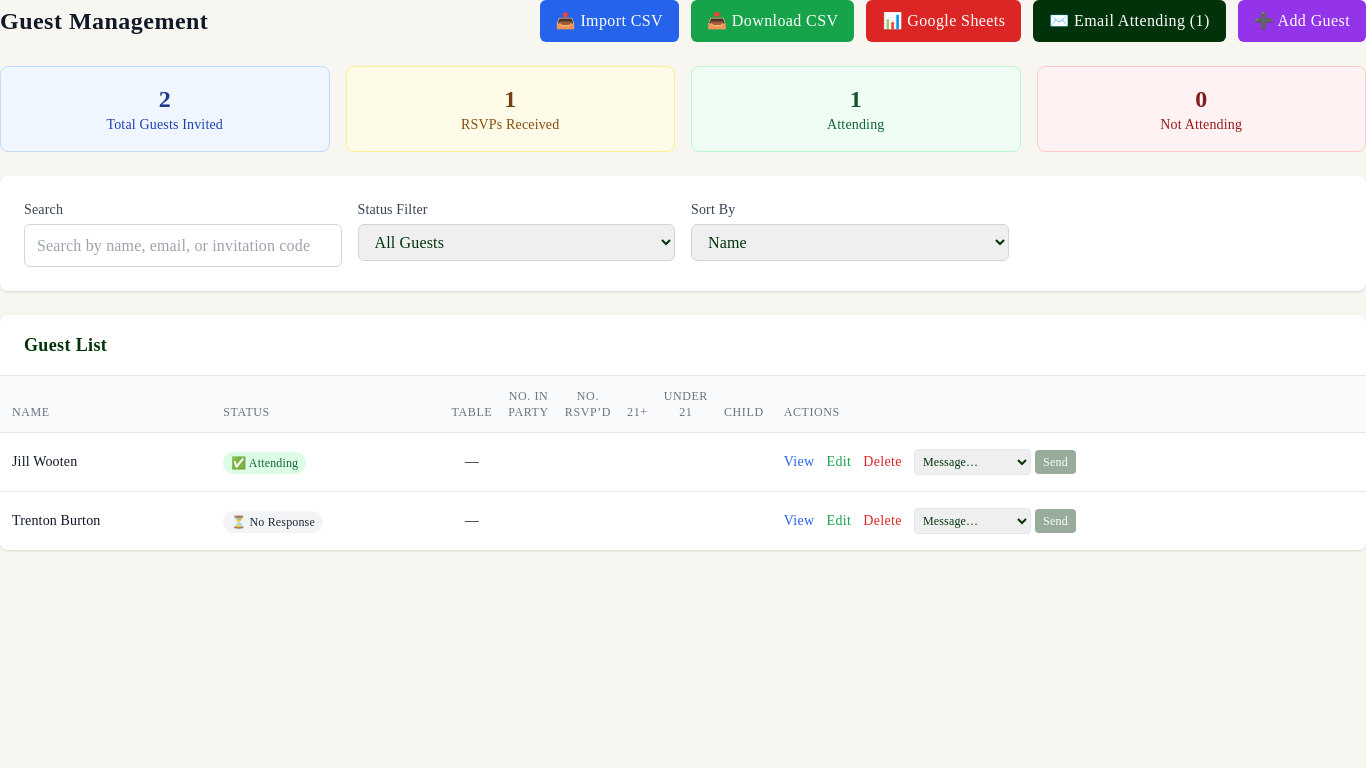
Test case: shows the favorite song in the View popup
The image size is (1366, 768).
Expected: the text "Jill Wooten" is shown, [12,454,77,469]
Click the button "View" in the row of "Jill Wooten" at (799, 462), box [784,452,815,472]
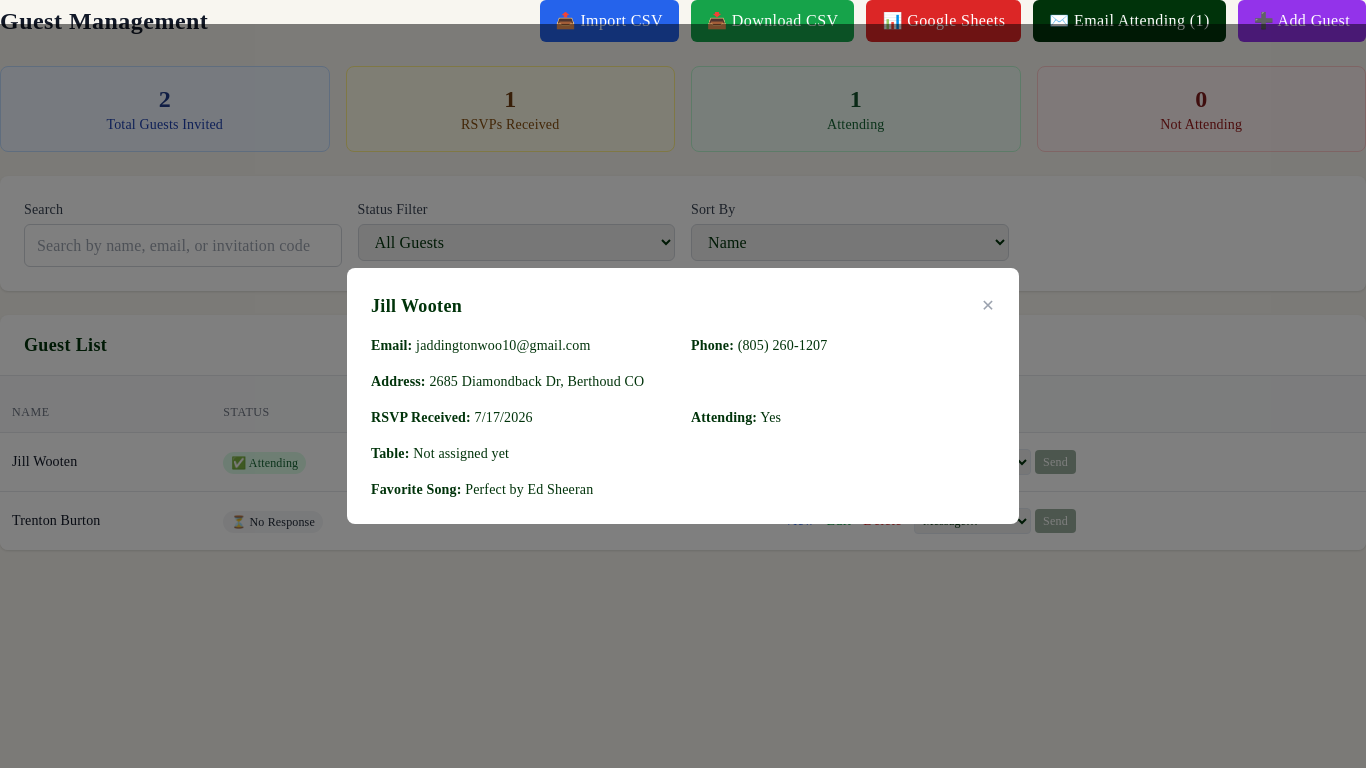
Expected: the heading "Jill Wooten" is shown, [371,292,462,320]
